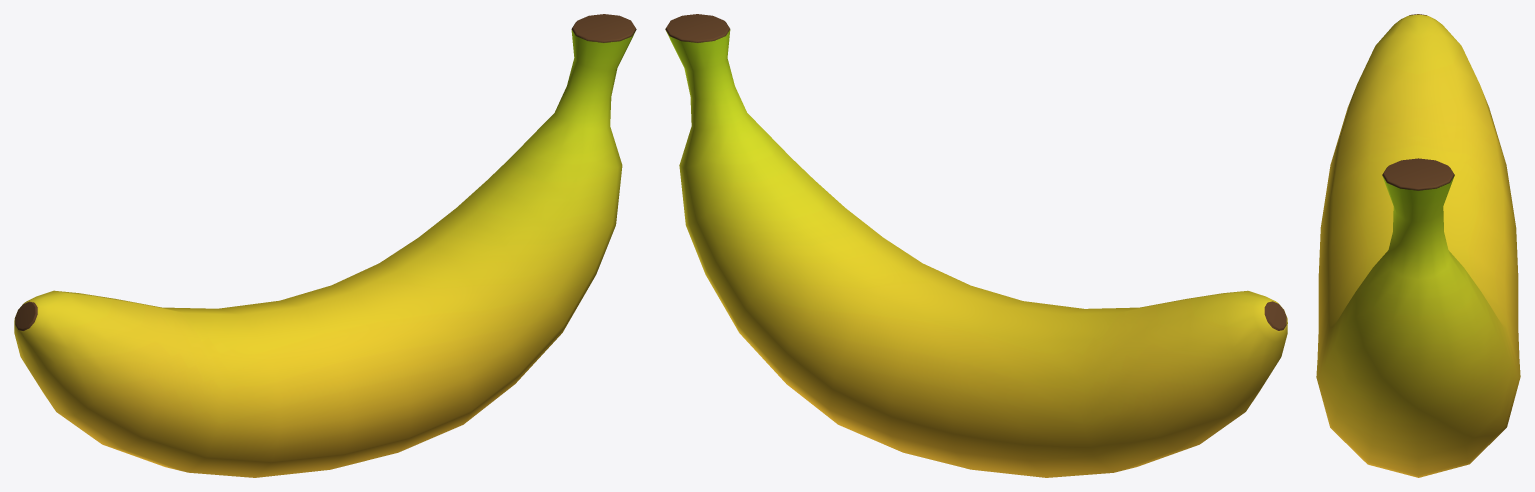
Rendered from Banana.fbx.
The picture shows the model from 3 angles, left to right: view 1: azimuth 30°, elevation 25°; view 2: azimuth 150°, elevation 25°; view 3: azimuth 270°, elevation 25°; orthographic projection. The views are drawn at different scales.
Visible parts, largest first — view 1: Banana; view 2: Banana; view 3: Banana.
Part boxes in pixels (x1,y1,x2,y2): Banana: (14,14,636,477); Banana: (665,14,1287,477); Banana: (1316,14,1520,477).
Bounding box in the file's own units: 9.61 × 5.45 × 2.48.
